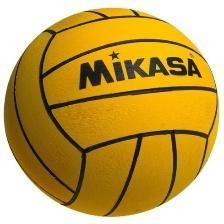Sports-Ball: (4, 8, 218, 217)
